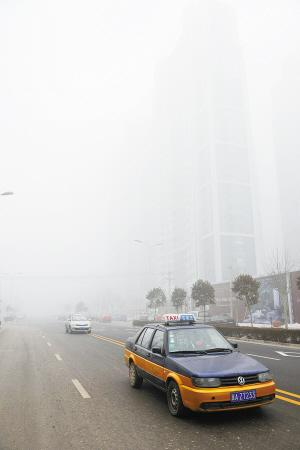car: (122, 313, 279, 419), (62, 313, 91, 333), (3, 311, 14, 323)
